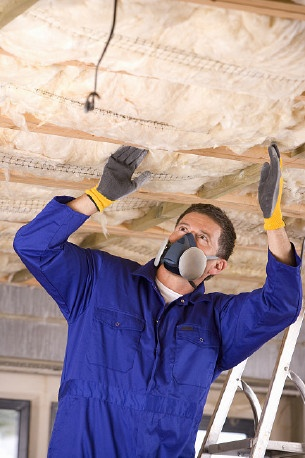Mask: (162, 208, 233, 279)
